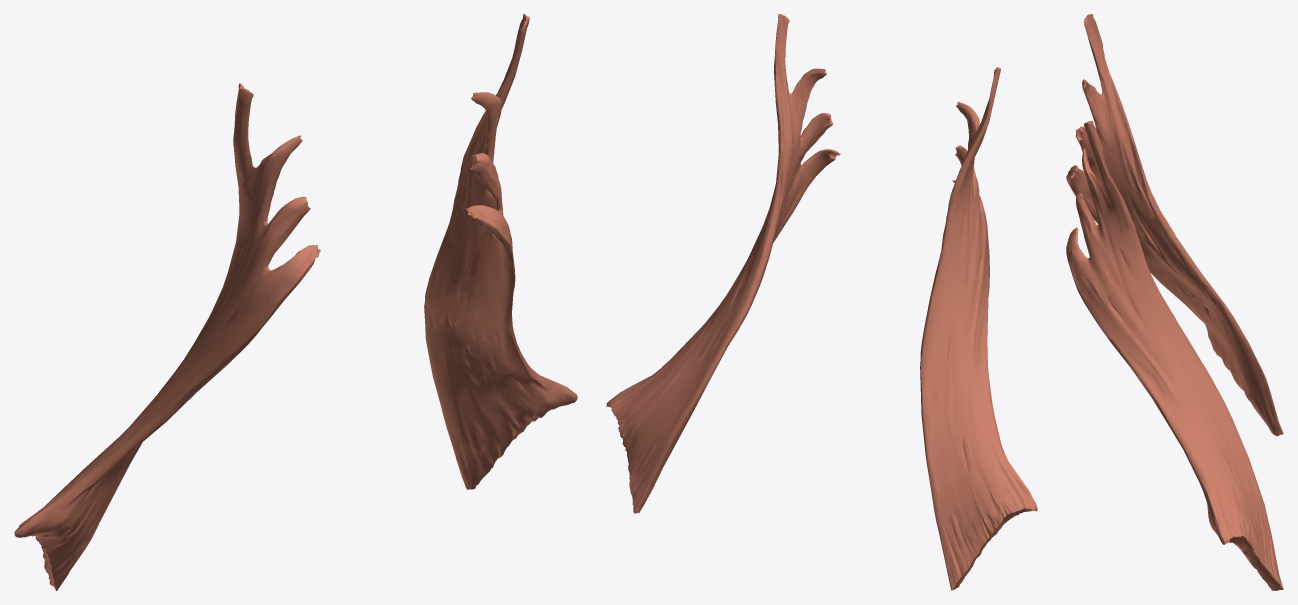
Rendered from levator.glb.
The picture shows the model from 3 angles, left to right: view 1: azimuth 30°, elevation 25°; view 2: azimuth 150°, elevation 25°; view 3: azimuth 270°, elevation 25°; orthographic projection. The views are drawn at different scales.
Visible parts, largest first — view 1: grp1; view 2: grp1; view 3: grp1.
Part boxes in pixels (x1=…): grp1: x1=14, y1=14, x2=577, y2=590; grp1: x1=606, y1=14, x2=1037, y2=590; grp1: x1=1066, y1=14, x2=1283, y2=590.
Size of the model in its own units: 0.1622 by 0.1592 by 0.0704.
